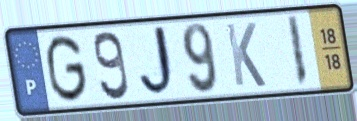9: (182, 20, 223, 97), (93, 29, 131, 101)
G: (44, 32, 90, 105)
I: (285, 13, 311, 89)
J: (138, 23, 181, 101)
K: (223, 20, 268, 89)
